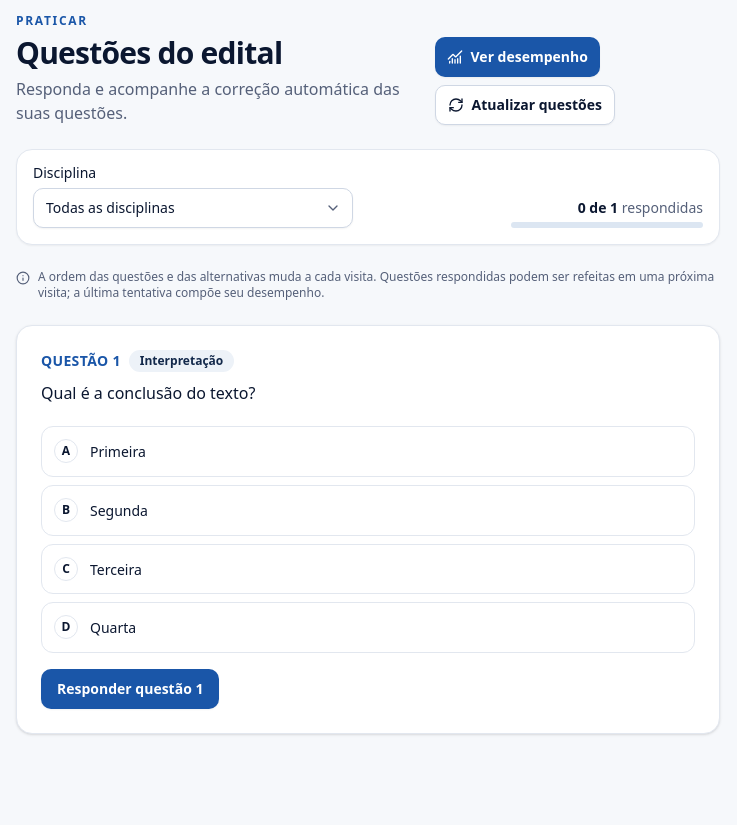
Test case: envia somente alternativa e mostra correcao do servidor
The image size is (737, 825).
expect the text "Qual é a conclusão do texto?" is shown: met, box [41,382,255,404]
Step 1. Click the radio button named "B. Segunda" → x=119, y=510, box [41,485,695,536]
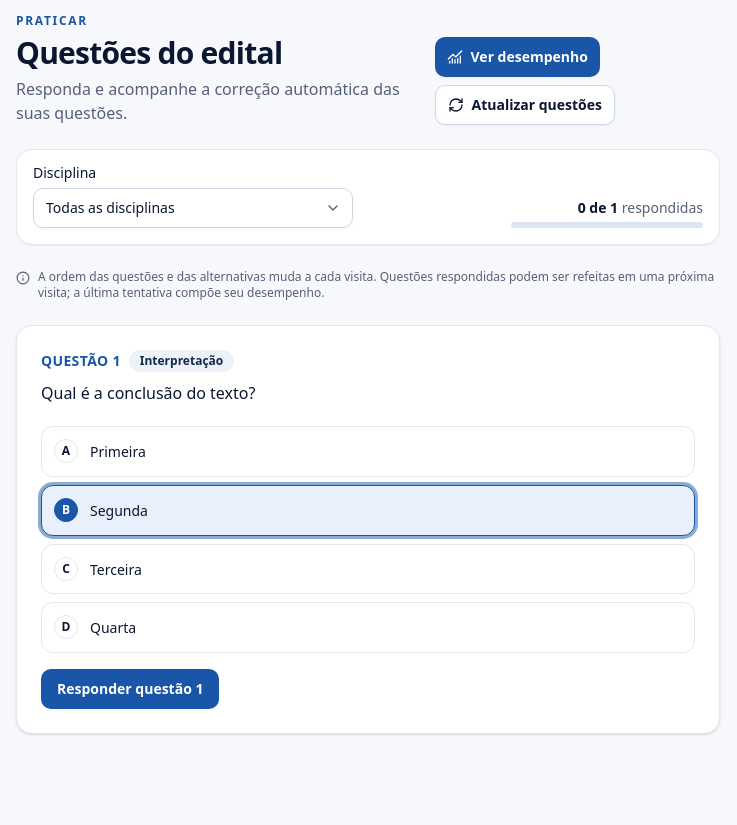
Step 2. Click the button "Responder questão 1" → x=130, y=689, box [41,669,220,709]
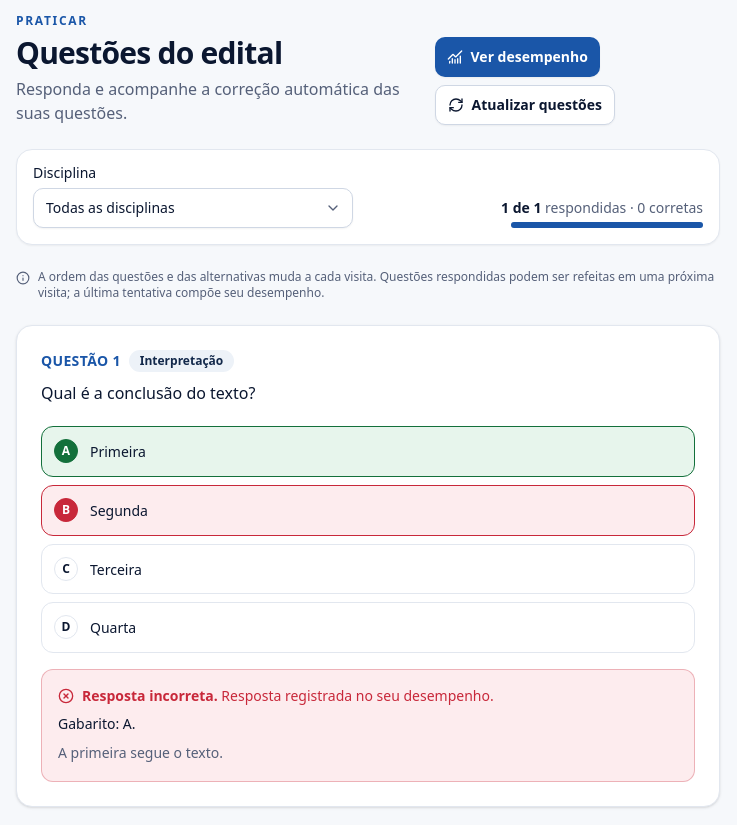
expect the text "Resposta incorreta." is shown: met, box [82,686,218,705]
expect the text "Gabarito: A." is shown: met, box [58,714,136,733]
expect the text "A primeira segue o texto." is shown: met, box [58,743,223,762]
